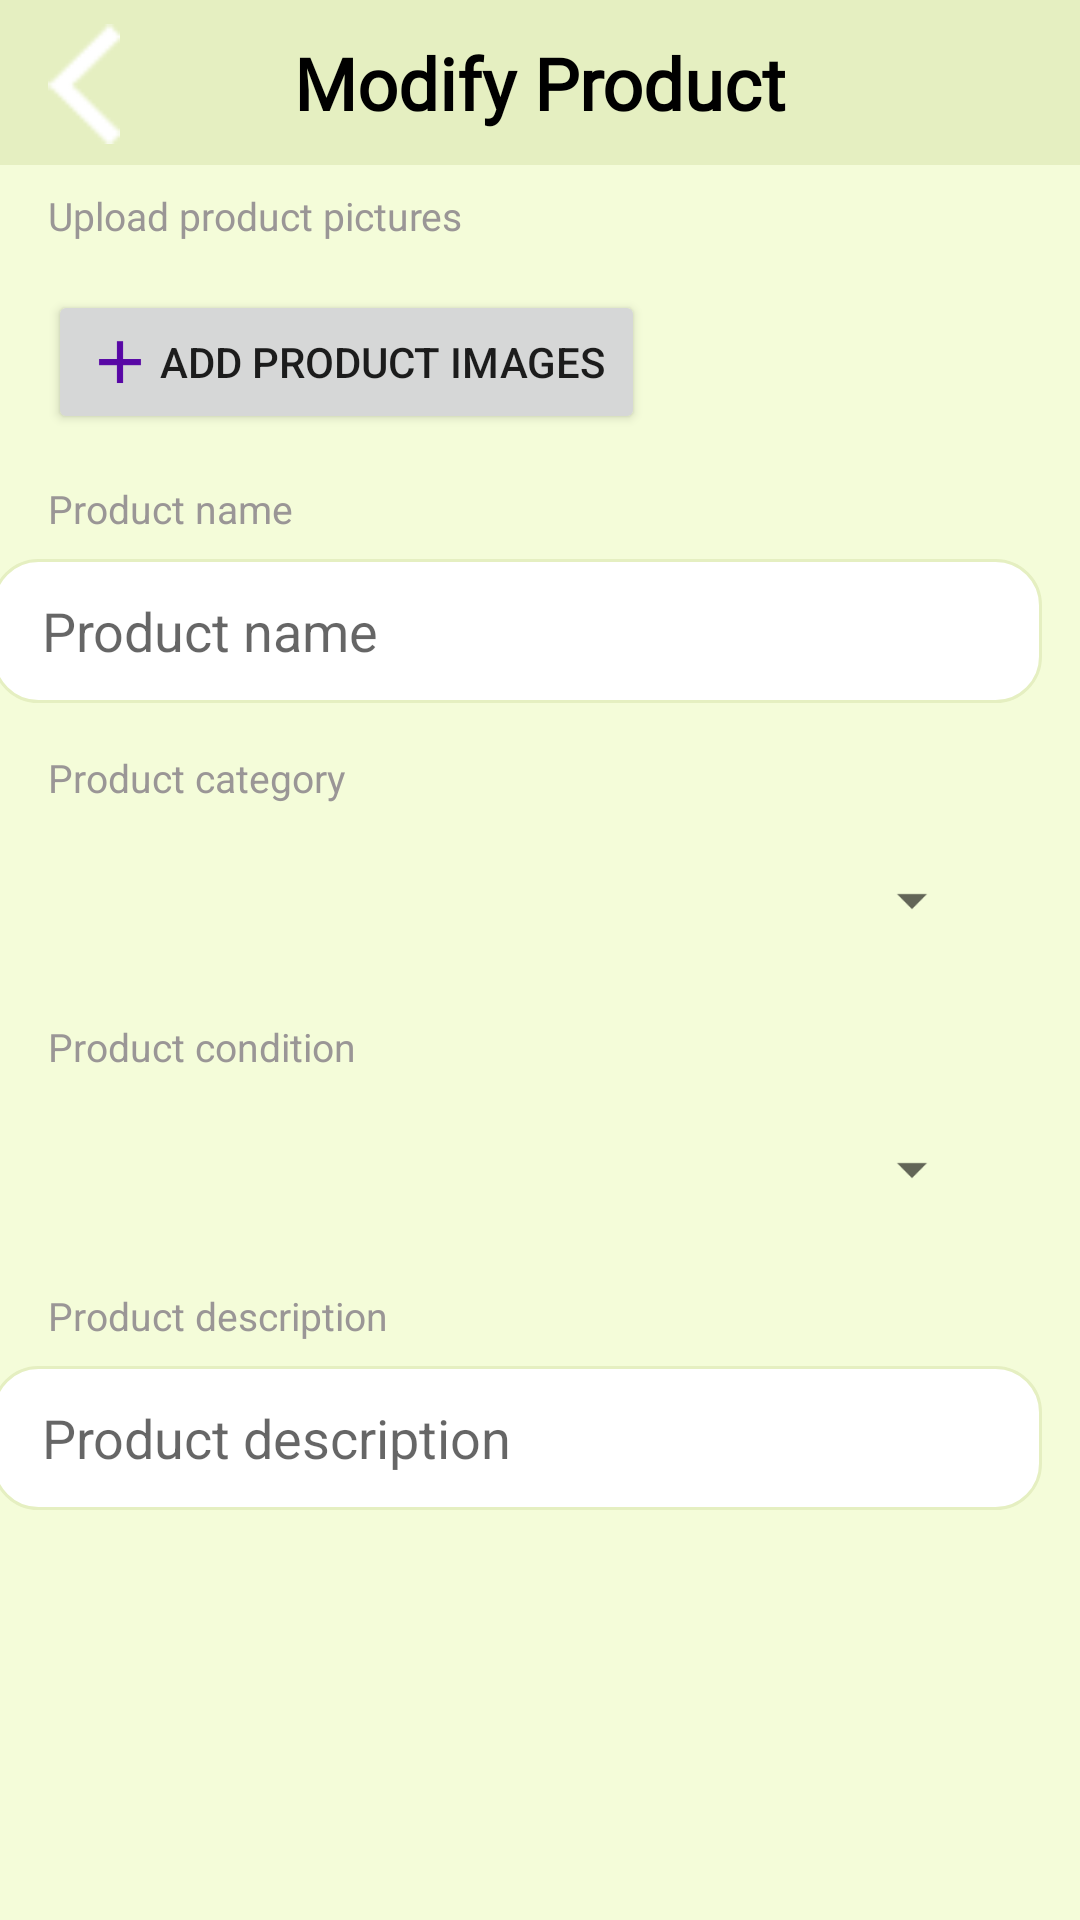

Icons on this 1080 x 1920 Android screen, each with the point to tap as [x,y]:
gobackqrrow: [84,85]
